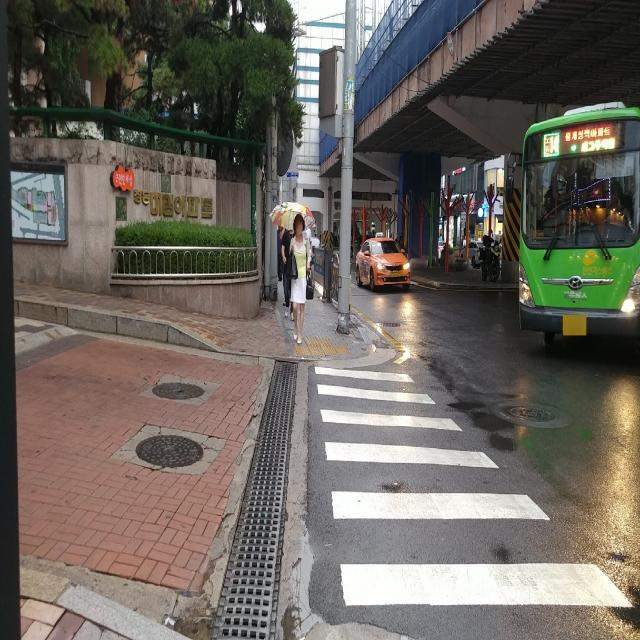횡단보도: (313, 363, 636, 610)
